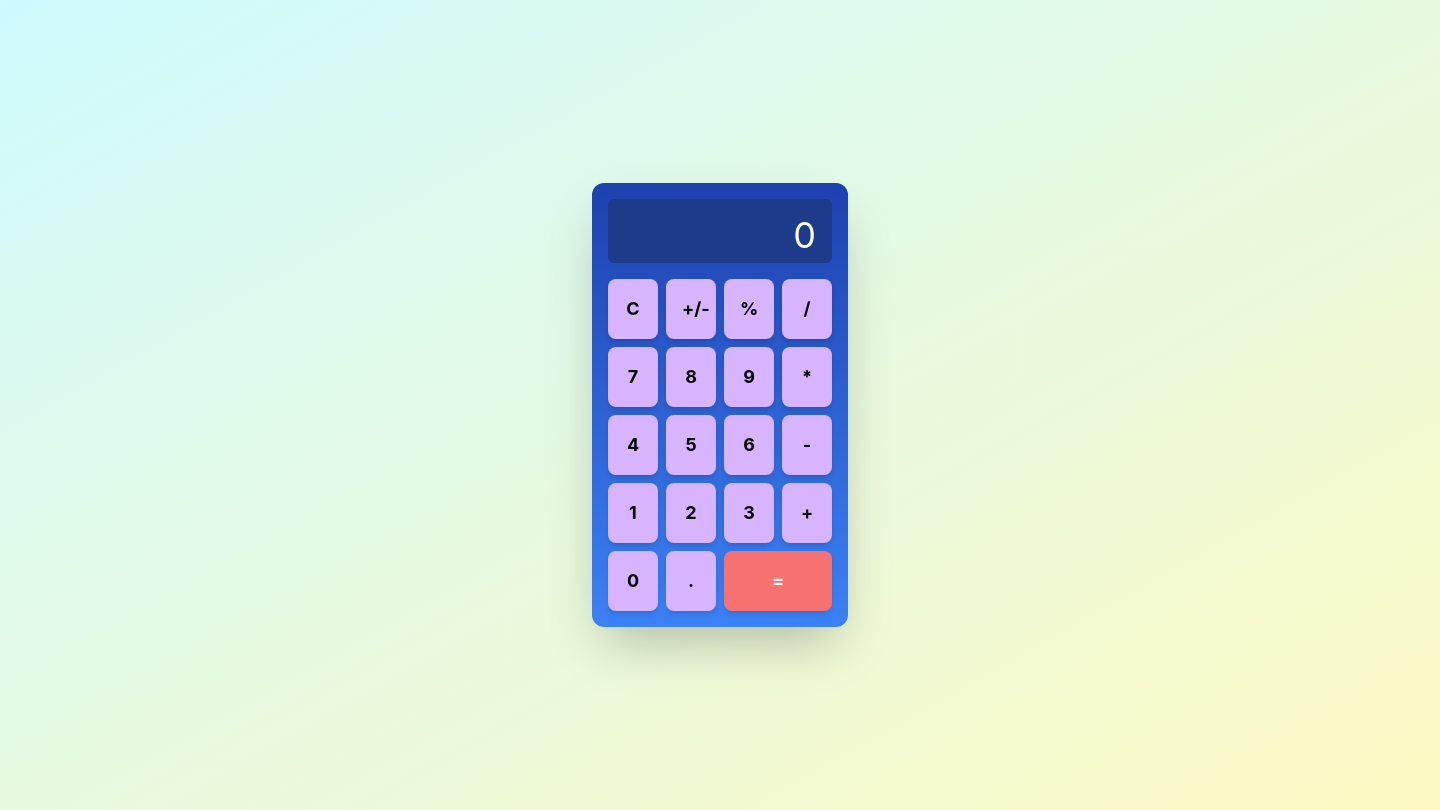
Test: subtracts two numbers correctly
Click the button "7". click: {"x": 633, "y": 377}
box: 608,347 -> 658,407
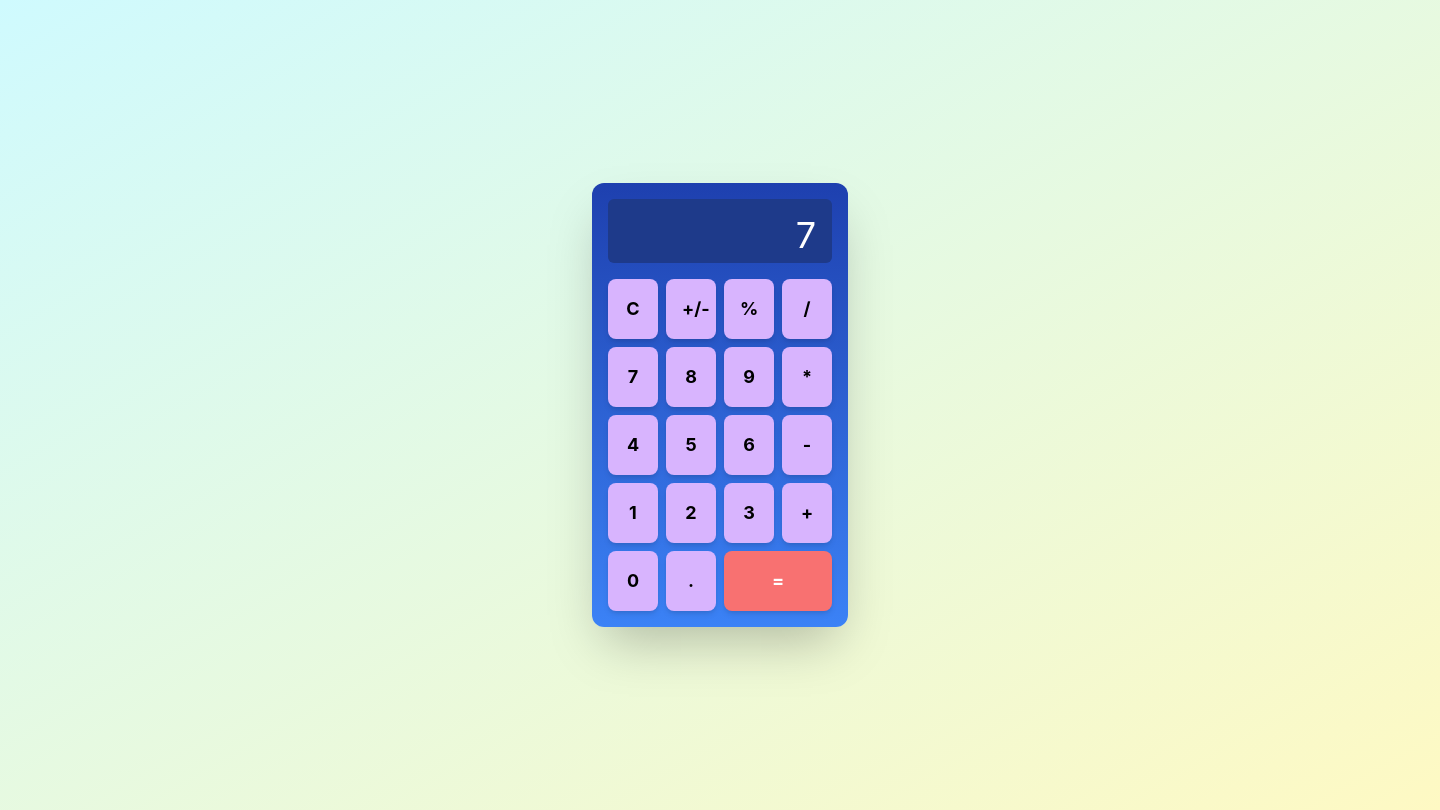
Click the button "-". click: {"x": 807, "y": 445}
box: 782,415 -> 832,475
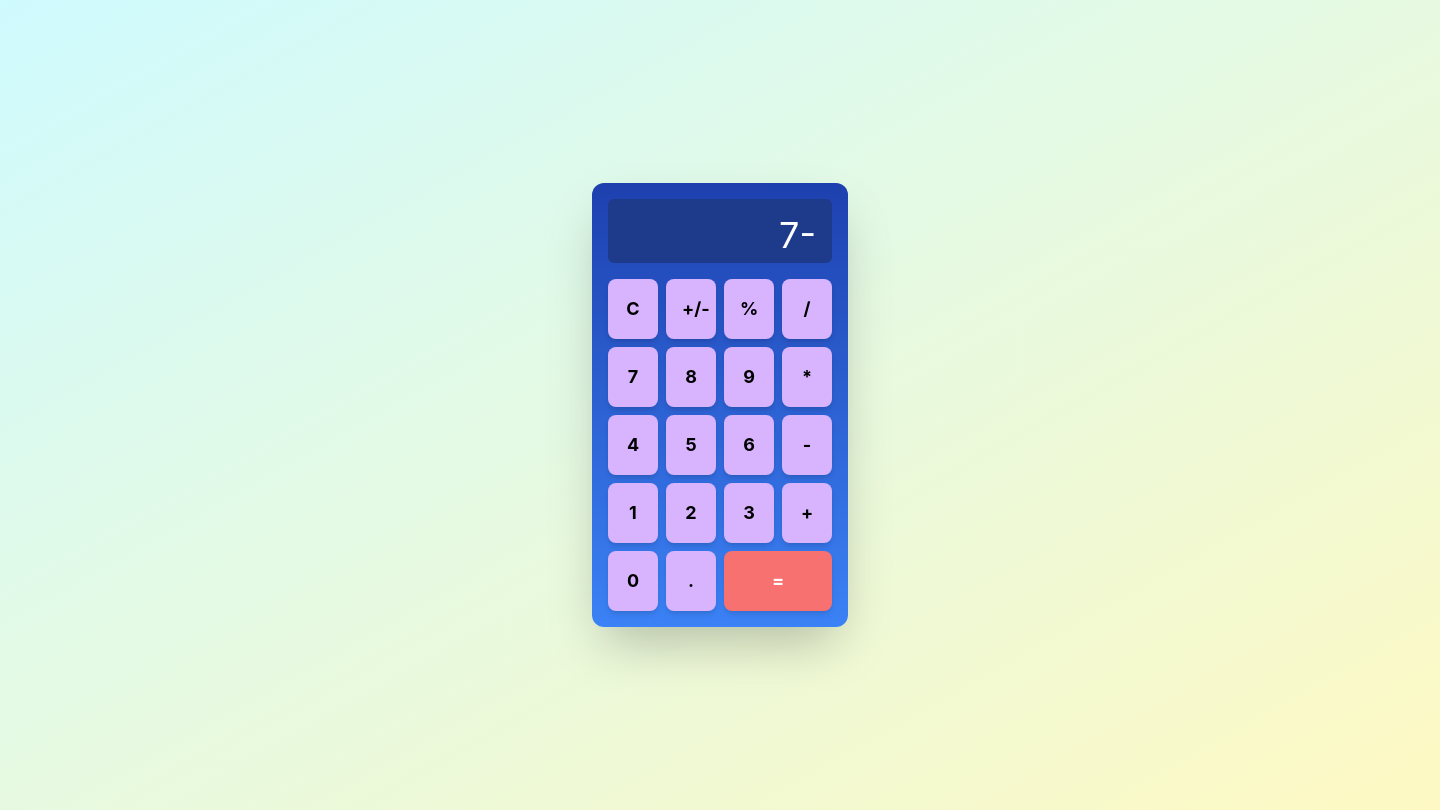
Click the button "4". click: {"x": 633, "y": 445}
box: 608,415 -> 658,475
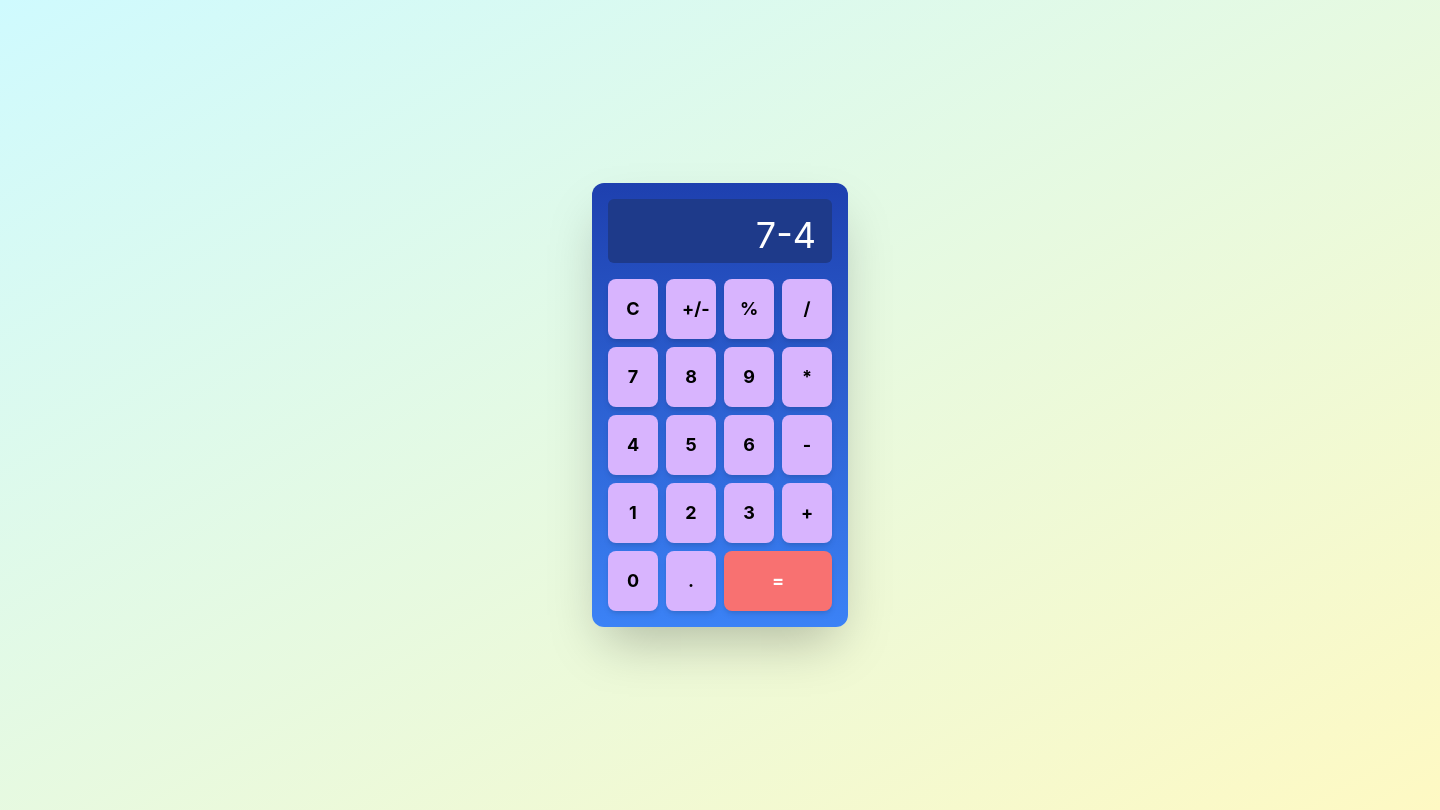
Click the button "=". click: {"x": 778, "y": 581}
box: 724,551 -> 832,611
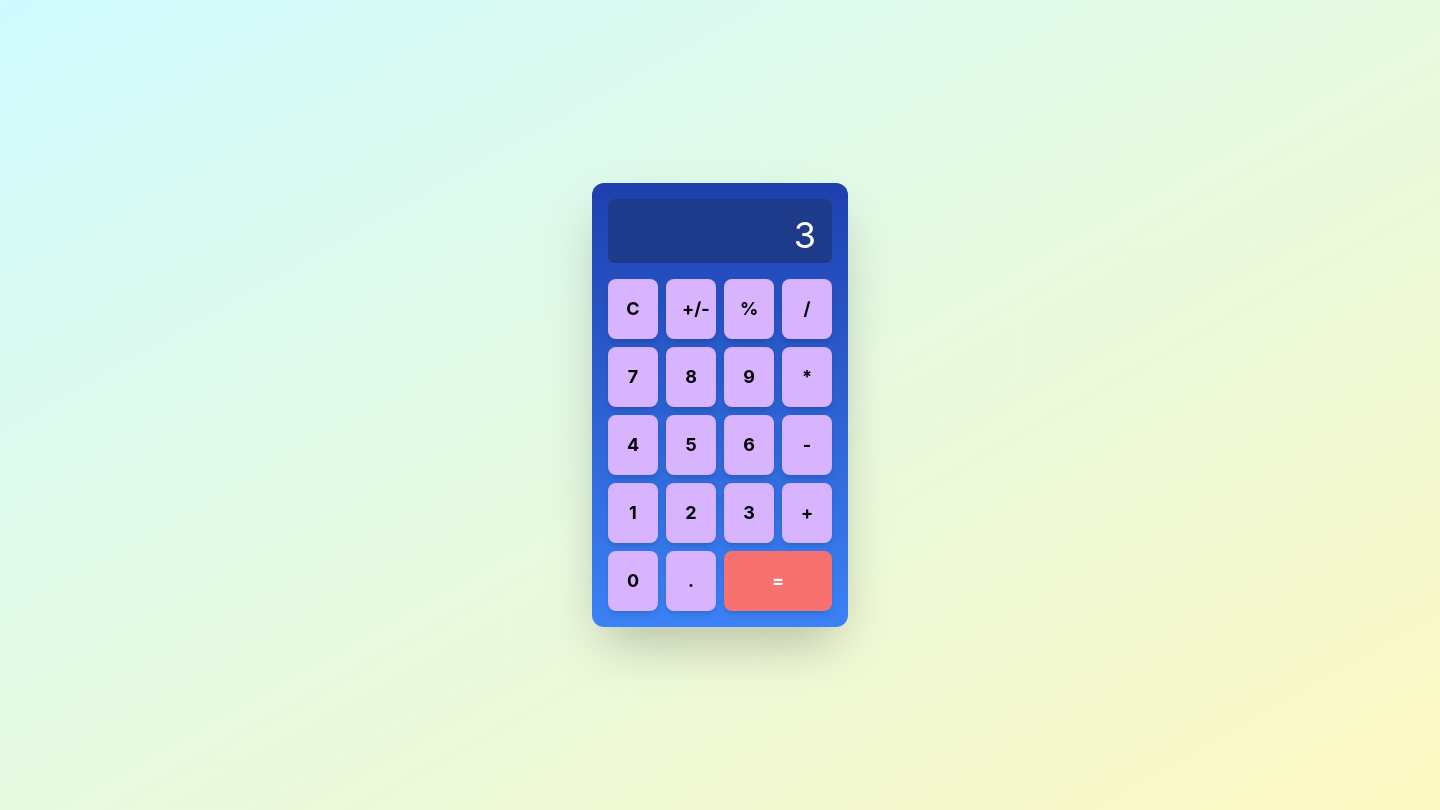
Expected: the text with test id "display" reads "3", 794,213 -> 816,257
